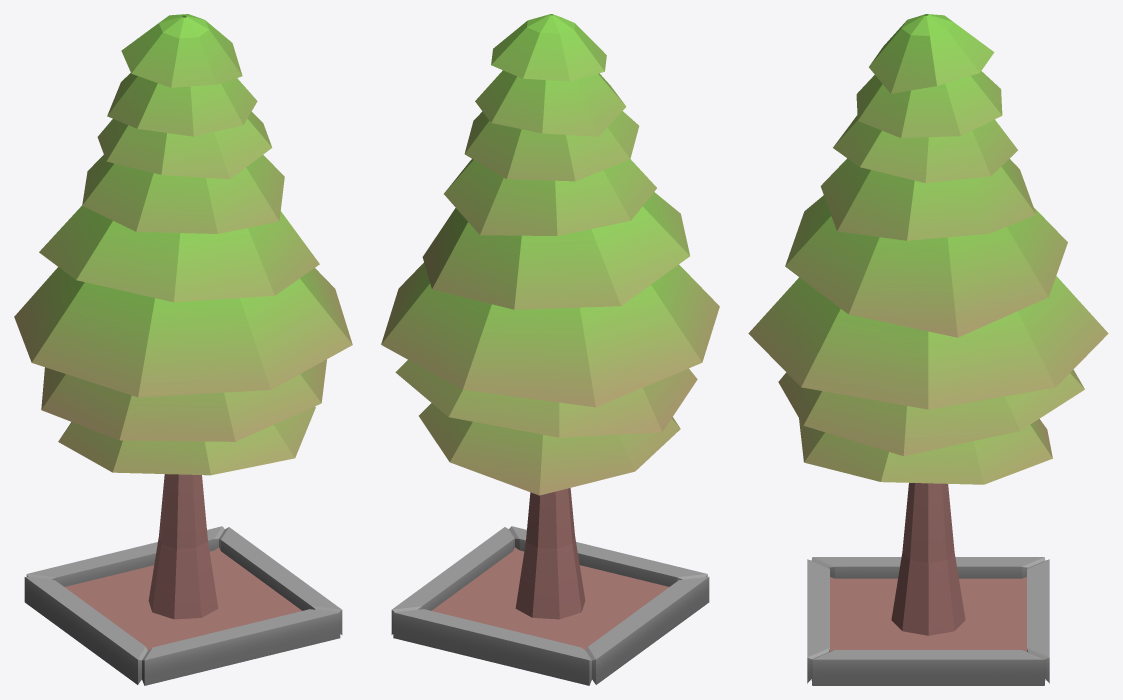
File: BaumKlein.glb
3 views of the same model, side by side, from view 1: azimuth 30°, elevation 25°; view 2: azimuth 150°, elevation 25°; view 3: azimuth 270°, elevation 25° (orthographic). The views are drawn at different scales.
Parts seen in each view (by area): view 1: Cube.009; view 2: Cube.009; view 3: Cube.009.
Boxes of the visible parts, x1,y1,x2,y2 form: Cube.009: (14, 14, 352, 685); Cube.009: (381, 14, 719, 685); Cube.009: (748, 14, 1108, 685).
Bounding box in the file's own units: 1.86 × 3.52 × 1.86.
1 material, 1 textured.
